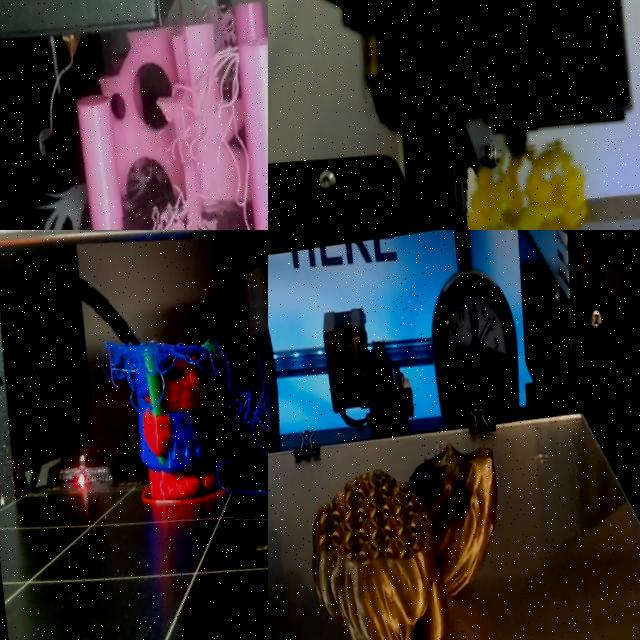spaghetti: (211, 277, 268, 552), (90, 306, 215, 414), (467, 144, 581, 230), (99, 199, 235, 230)
